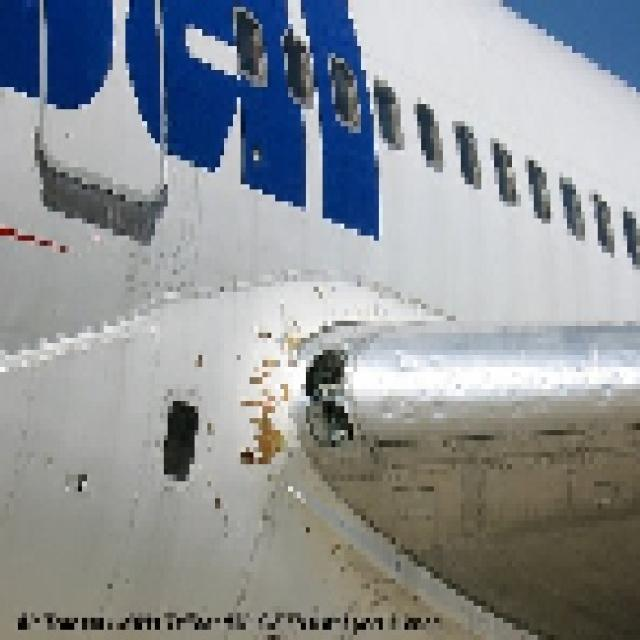dent: (377, 344, 640, 429)
